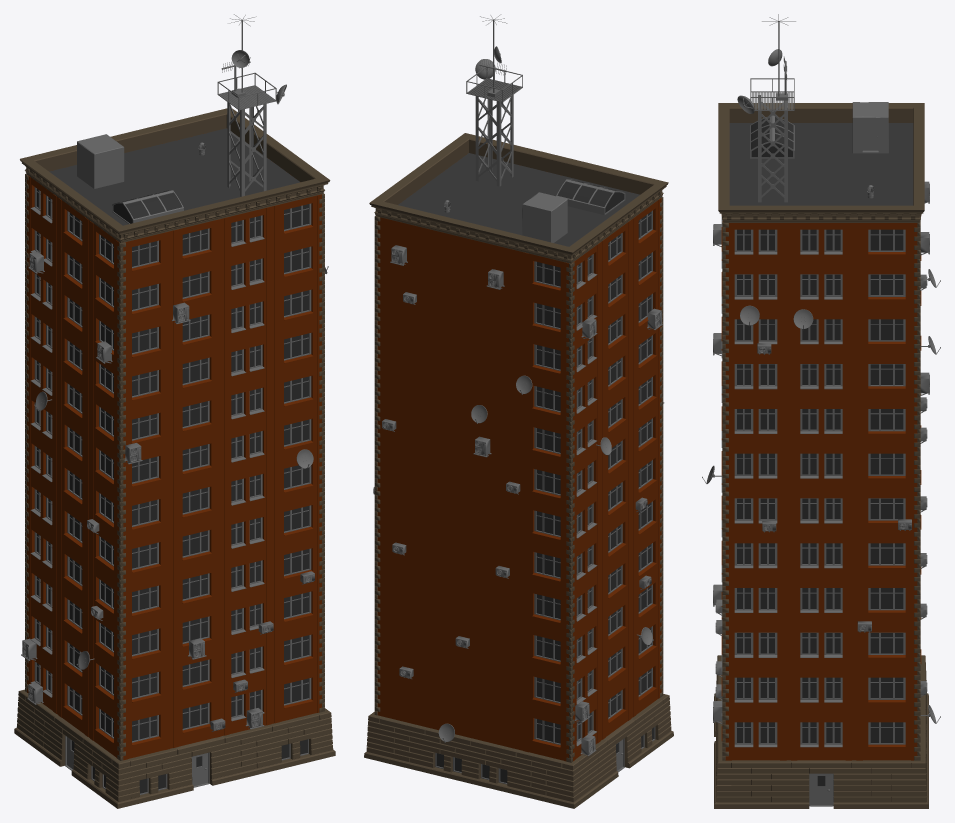
The model's file is Building4.fbx.
The picture shows the model from 3 angles, left to right: view 1: azimuth 30°, elevation 25°; view 2: azimuth 150°, elevation 25°; view 3: azimuth 270°, elevation 25°; orthographic projection. The views are drawn at different scales.
Parts seen in each view (by area): view 1: air_vent_a.005; view 2: air_vent_a.005; view 3: air_vent_a.005.
Part boxes in pixels (<box>): air_vent_a.005: <box>14,14,335,808</box>; air_vent_a.005: <box>364,14,673,808</box>; air_vent_a.005: <box>702,14,940,808</box>.
Bounding box in the file's own units: 1734 × 5068 × 1450.
